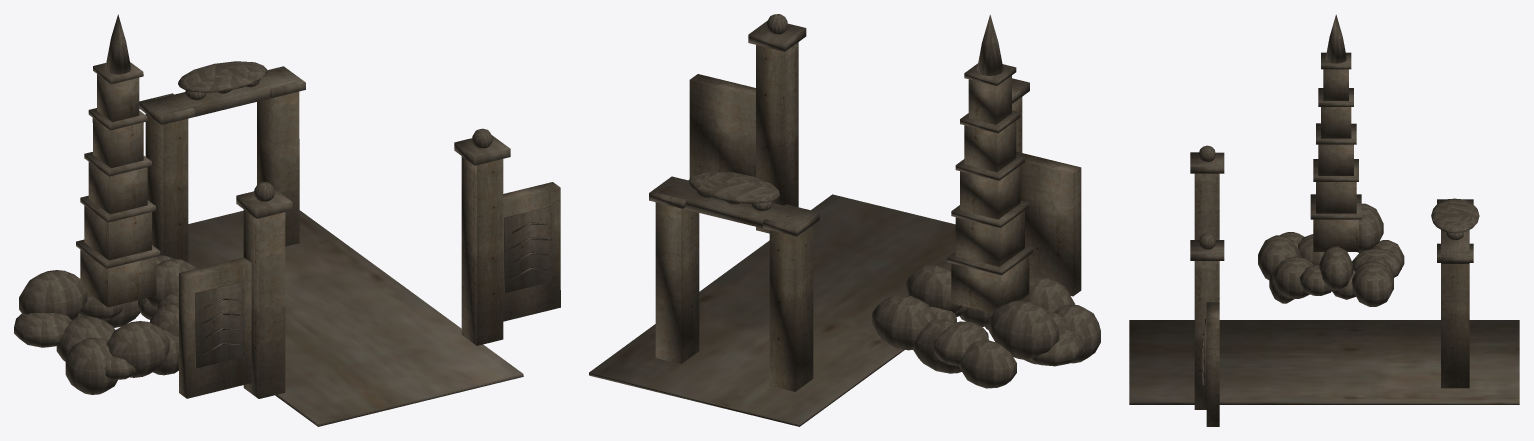
The model's file is thap_but_dai_nghien_lod2.glb.
The picture shows the model from 3 angles, left to right: view 1: azimuth 30°, elevation 25°; view 2: azimuth 150°, elevation 25°; view 3: azimuth 270°, elevation 25°; orthographic projection. The views are drawn at different scales.
Parts seen in each view (by area): view 1: thap_but_dai_nghien.001; view 2: thap_but_dai_nghien.001; view 3: thap_but_dai_nghien.001.
Part boxes in pixels (left/top/right/bottom): thap_but_dai_nghien.001: left=14, top=14, right=560, bottom=426; thap_but_dai_nghien.001: left=589, top=14, right=1100, bottom=426; thap_but_dai_nghien.001: left=1129, top=14, right=1519, bottom=426.
Size of the model in its own units: 11.09 by 8.02 by 9.99.
Materials: 2 (2 with a texture image).
